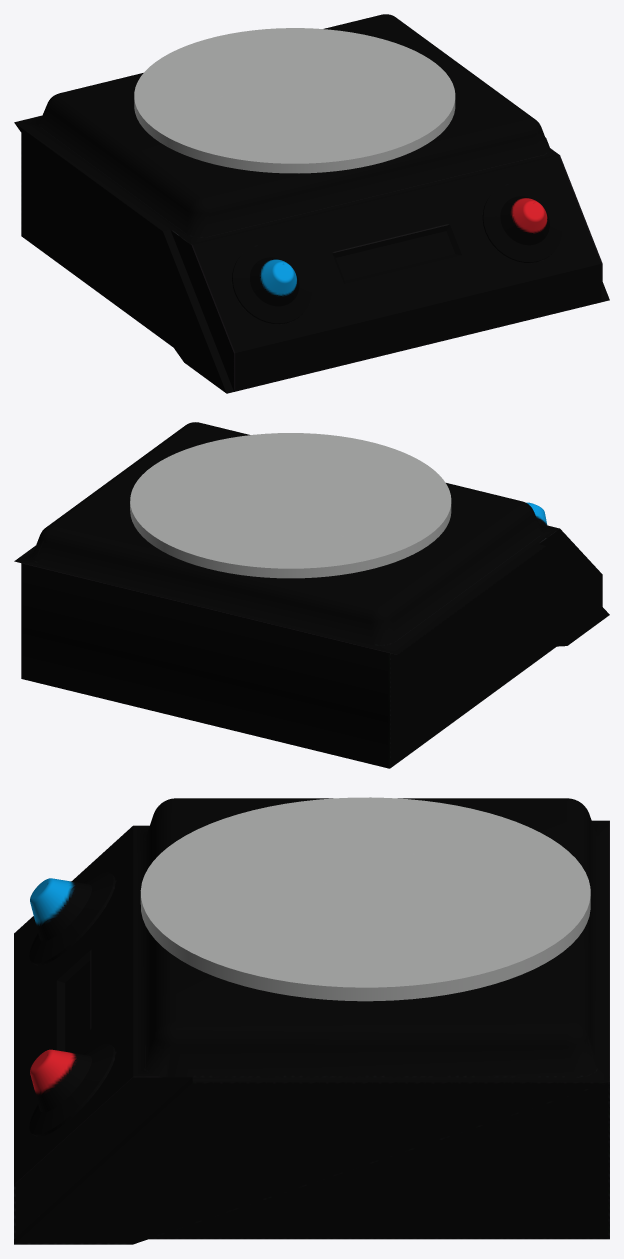
File: Magnetic Stirrer.fbx
3 renders of one model, top to bottom at view 1: azimuth 30°, elevation 25°; view 2: azimuth 150°, elevation 25°; view 3: azimuth 270°, elevation 25°, orthographic. The views are drawn at different scales.
Visible parts, largest first — view 1: node_id5, root; view 2: node_id5, root; view 3: node_id5, root.
Part boxes in pixels (x1,y1,x2,y2): node_id5: (14,14,609,393); root: (134,28,455,173); node_id5: (14,422,609,768); root: (130,433,451,578); node_id5: (14,798,609,1244); root: (140,797,590,1001).
Bounding box in the file's own units: 0.512 × 0.2026 × 0.4923.
2 materials, 2 textured.
